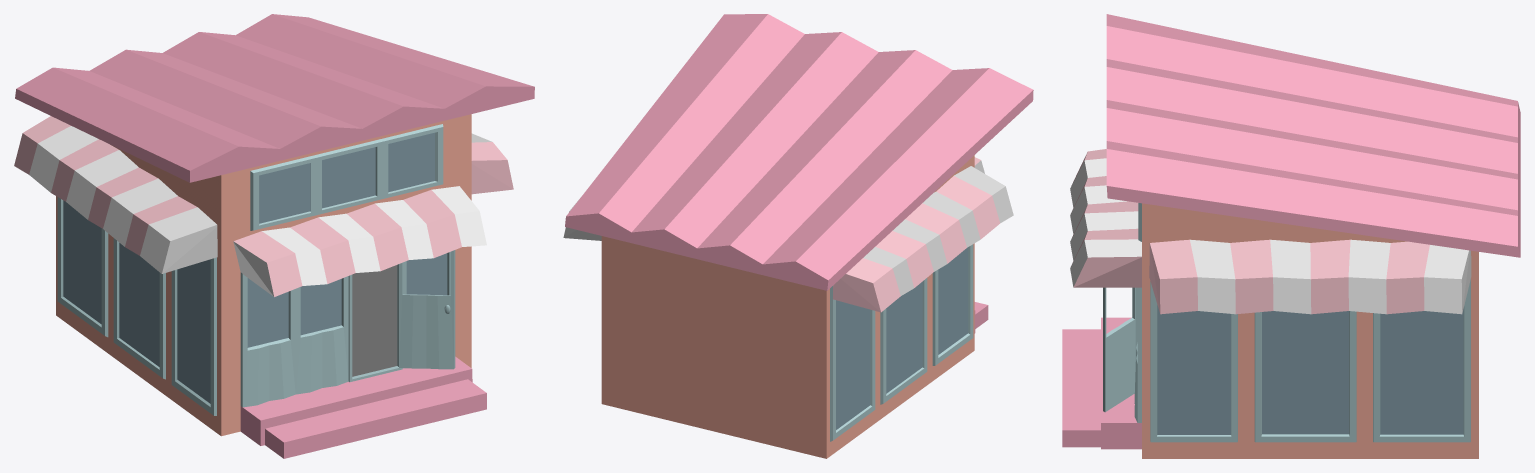
The model's file is цветочный магазин.fbx.
3 renders of one model, left to right at view 1: azimuth 30°, elevation 25°; view 2: azimuth 150°, elevation 25°; view 3: azimuth 270°, elevation 25°, orthographic. The views are drawn at different scales.
Parts seen in each view (by area): view 1: Cube, Plane.001, Plane.003, Plane, Cube.001, Plane.002; view 2: Cube, Plane.003; view 3: Cube, Plane.002, Plane.001, Cube.001.
Part boxes in pixels (x1,y1,x2,y2): Cube: (15, 14, 534, 458); Plane.001: (233, 186, 486, 297); Plane.003: (14, 116, 217, 273); Plane: (250, 124, 443, 230); Cube.001: (399, 250, 455, 369); Plane.002: (471, 133, 513, 194); Cube: (565, 14, 1033, 458); Plane.003: (833, 166, 1013, 312); Cube: (1062, 14, 1520, 458); Plane.002: (1149, 239, 1471, 314); Plane.001: (1070, 149, 1141, 287); Cube.001: (1103, 287, 1135, 412).
Size of the model in its own units: 378 by 303 by 408.
